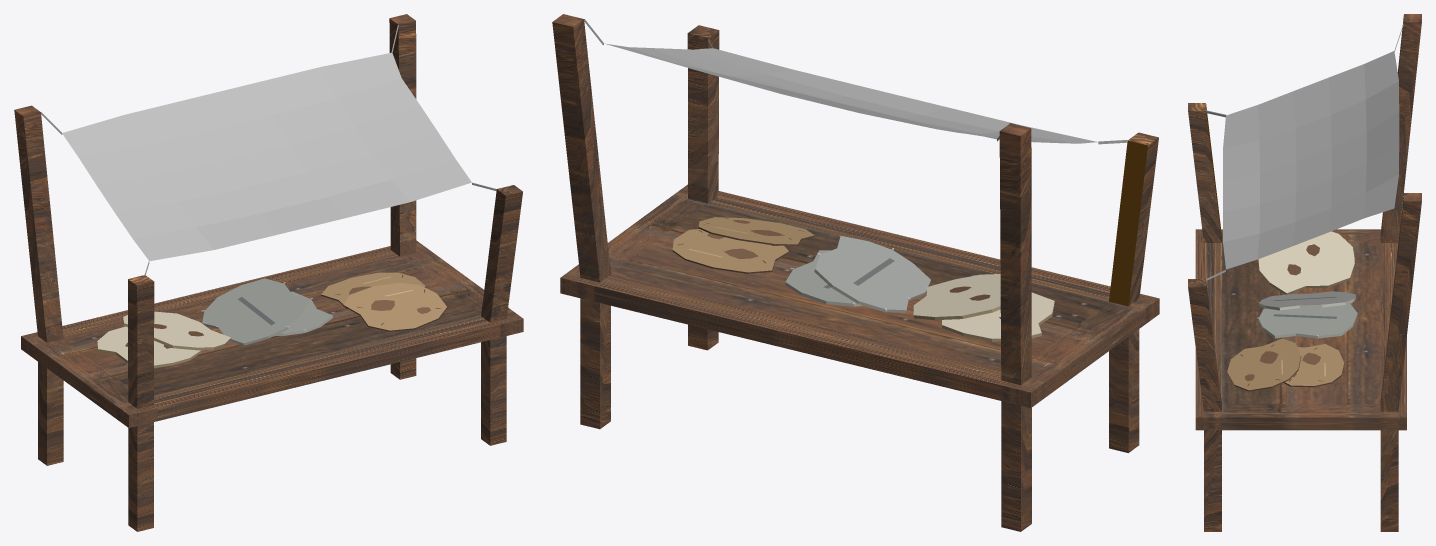
The model's file is hides stall.glb.
3 renders of one model, left to right at view 1: azimuth 30°, elevation 25°; view 2: azimuth 150°, elevation 25°; view 3: azimuth 270°, elevation 25°, orthographic. The views are drawn at different scales.
Parts seen in each view (by area): view 1: Hides_Stall_Combined; view 2: Hides_Stall_Combined; view 3: Hides_Stall_Combined.
Part boxes in pixels (<box>): Hides_Stall_Combined: <box>14,14,523,531</box>; Hides_Stall_Combined: <box>552,14,1159,531</box>; Hides_Stall_Combined: <box>1188,14,1421,531</box>.
Bounding box in the file's own units: 1.9 × 1.58 × 0.9964.
6 materials, 1 textured.
